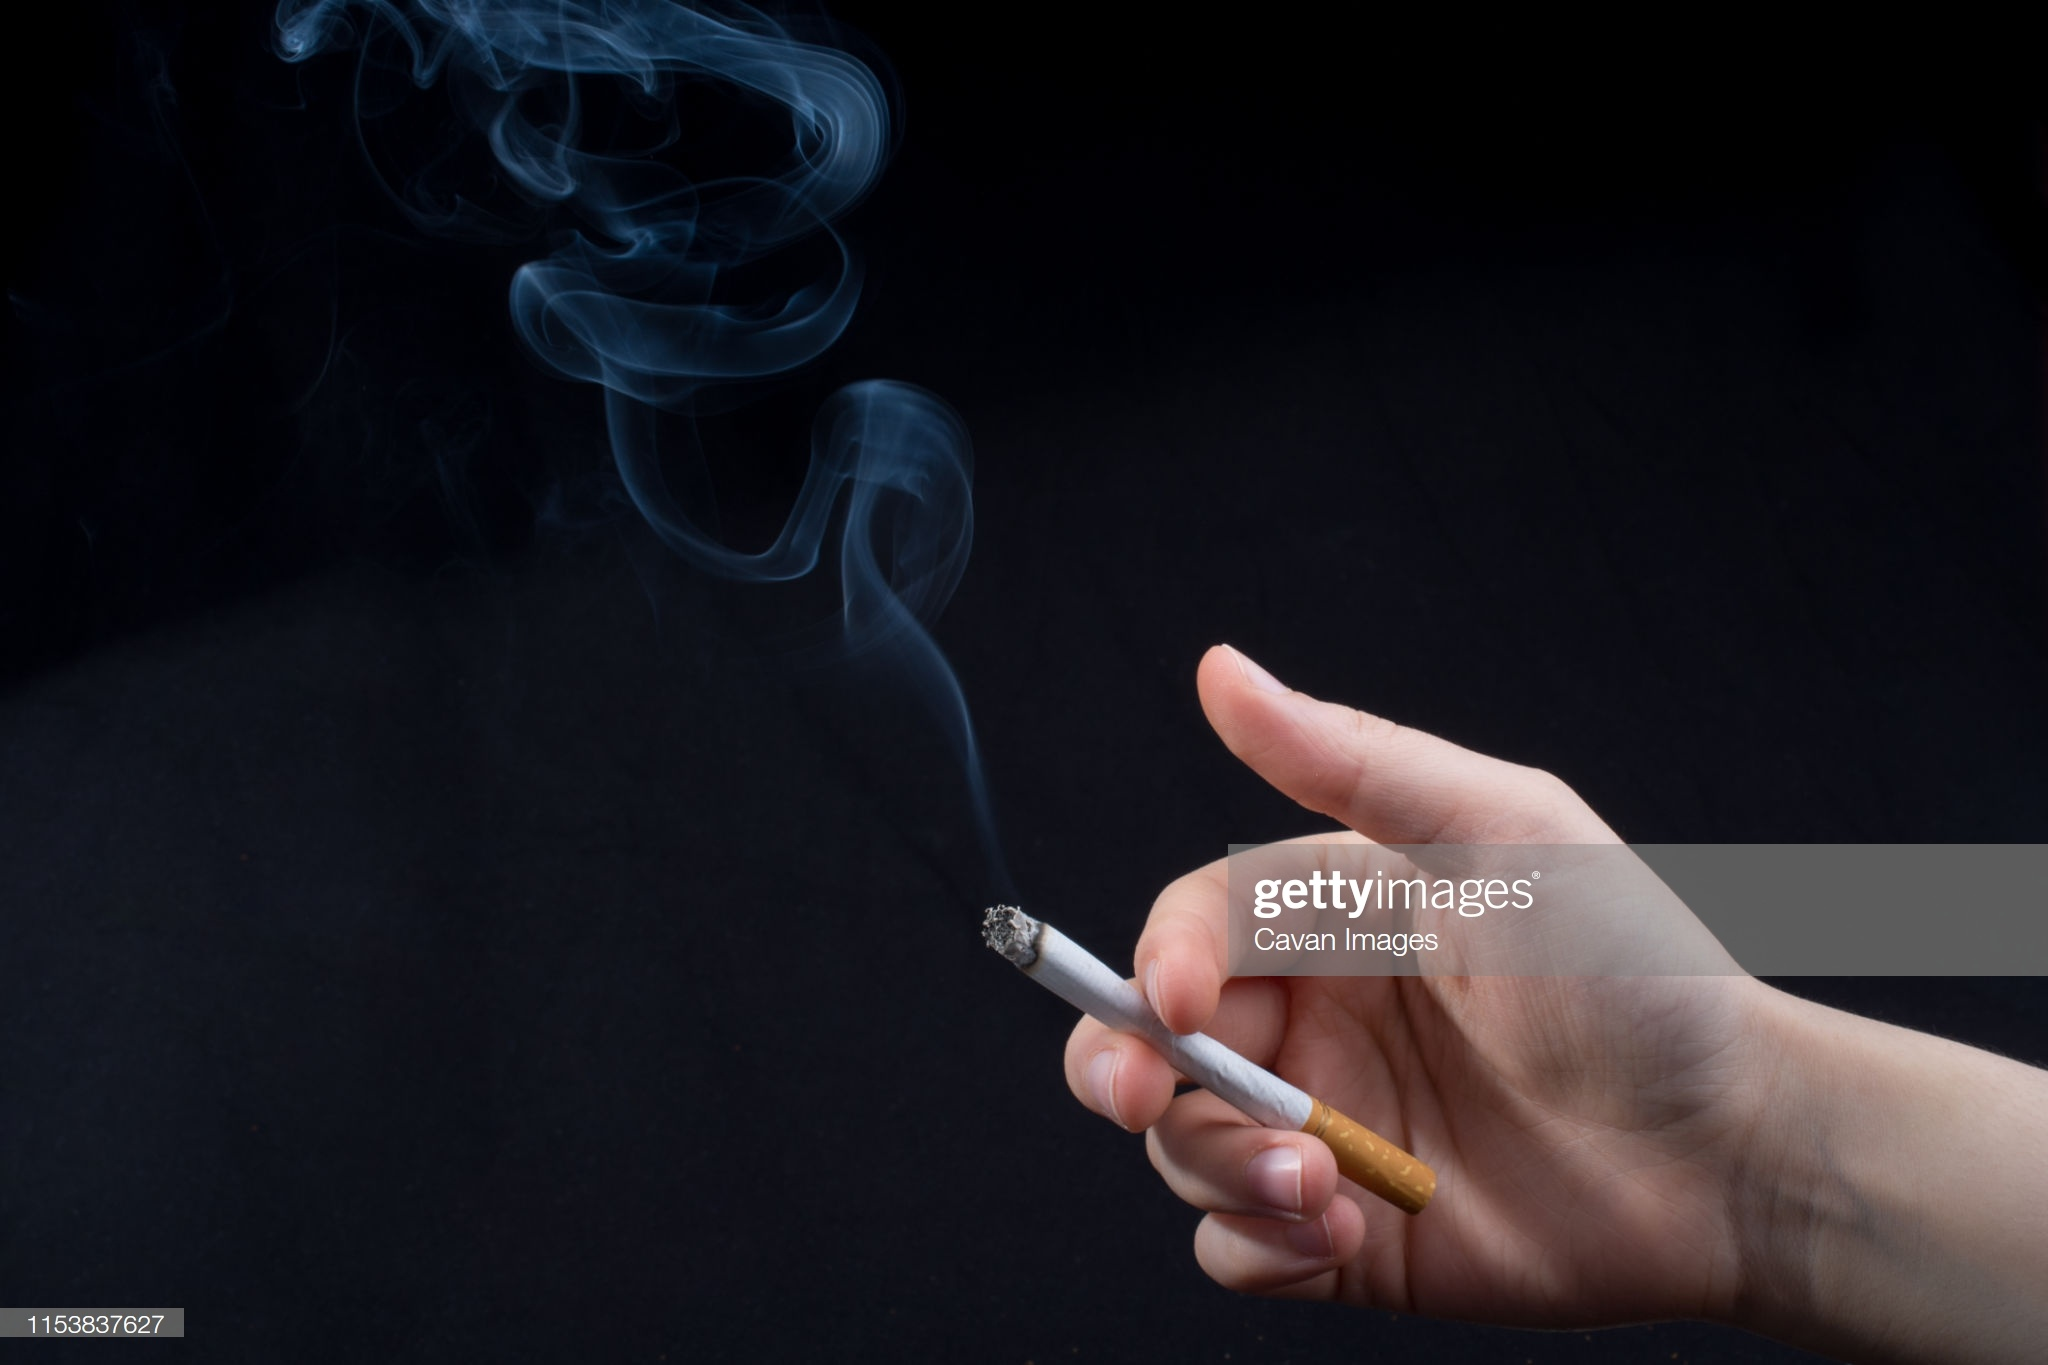sigaretta: (991, 900, 1465, 1200)
